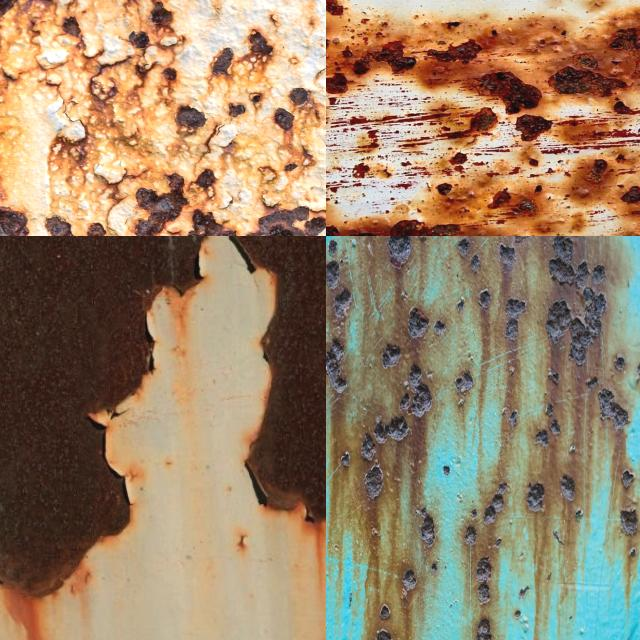Pitting Corrosion: (326, 236, 640, 640), (0, 0, 326, 236), (326, 143, 640, 236), (475, 71, 542, 113), (326, 50, 375, 107), (548, 66, 626, 96), (609, 28, 640, 77), (373, 42, 416, 73), (427, 40, 482, 63), (516, 115, 552, 141), (471, 108, 497, 132), (326, 0, 343, 16)
